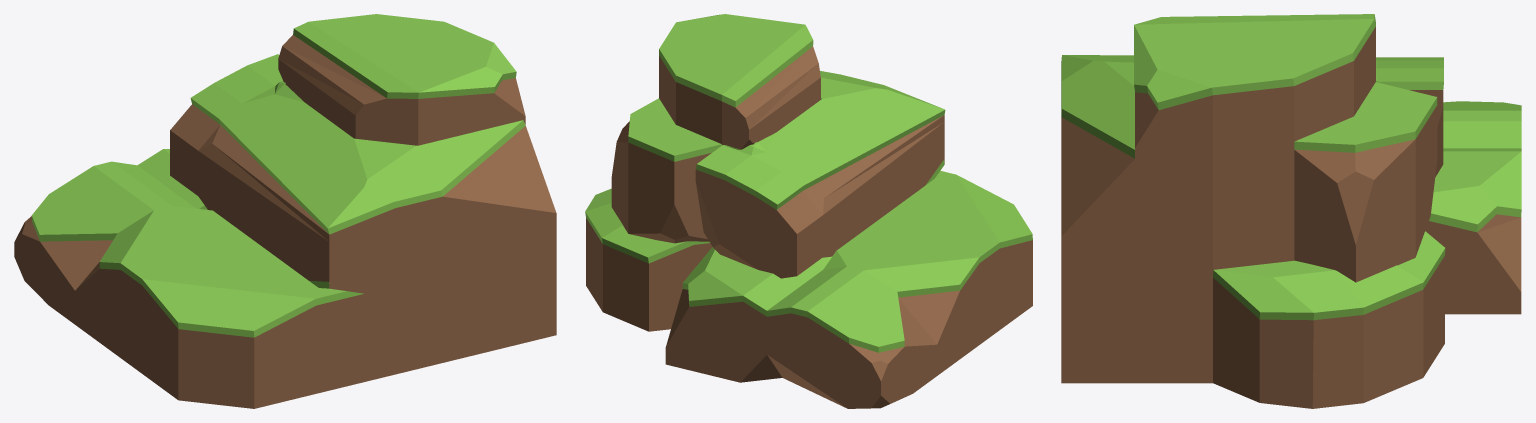
File: stones01_top_grass_dirt.fbx
The picture shows the model from 3 angles, left to right: view 1: azimuth 30°, elevation 25°; view 2: azimuth 150°, elevation 25°; view 3: azimuth 270°, elevation 25°; orthographic projection. The views are drawn at different scales.
Visible parts, largest first — view 1: stones01_top_grass_dirt_LOD0; view 2: stones01_top_grass_dirt_LOD0; view 3: stones01_top_grass_dirt_LOD0.
Boxes of the visible parts, x1,y1,x2,y2 form: stones01_top_grass_dirt_LOD0: [14, 14, 556, 408]; stones01_top_grass_dirt_LOD0: [585, 14, 1032, 408]; stones01_top_grass_dirt_LOD0: [1061, 14, 1521, 408].
Size of what is drawn, in the model's own units: 174 by 104 by 146.
